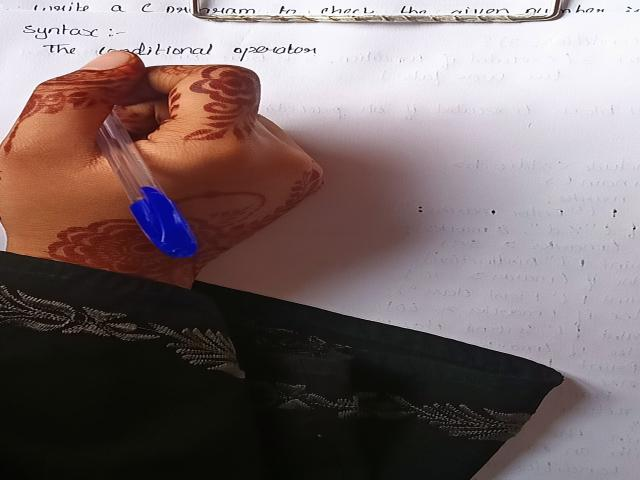PEN: (68, 94, 222, 264)
